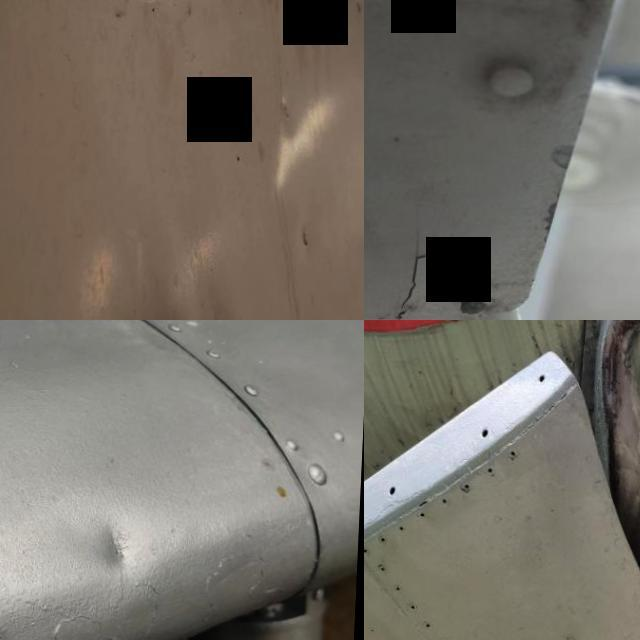Crack: (364, 175, 454, 320)
Dent: (60, 488, 183, 600), (582, 320, 640, 511)
